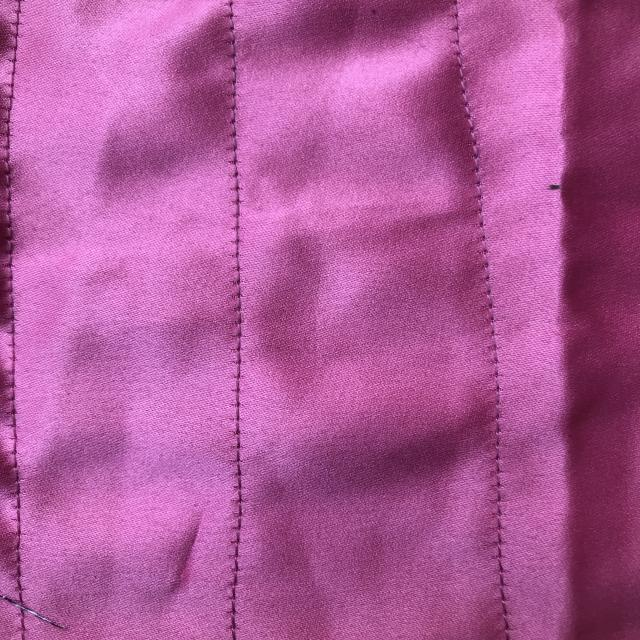good: (440, 34, 496, 170)
